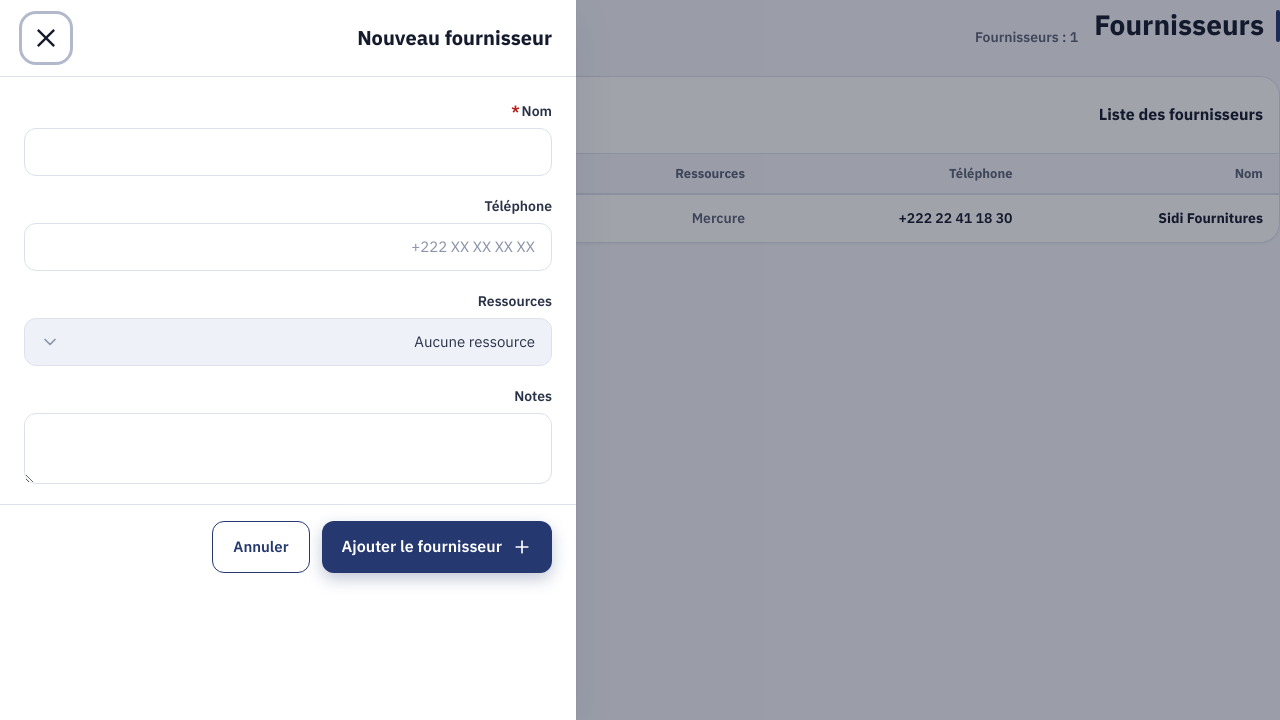
it: SuppliersScreen › shows the backend's refusal on the name
This screenshot has width=1280, height=720.
Type "Sidi Fournitures" into the field labelled "Nom" at (288, 152), box [24,128,552,176]
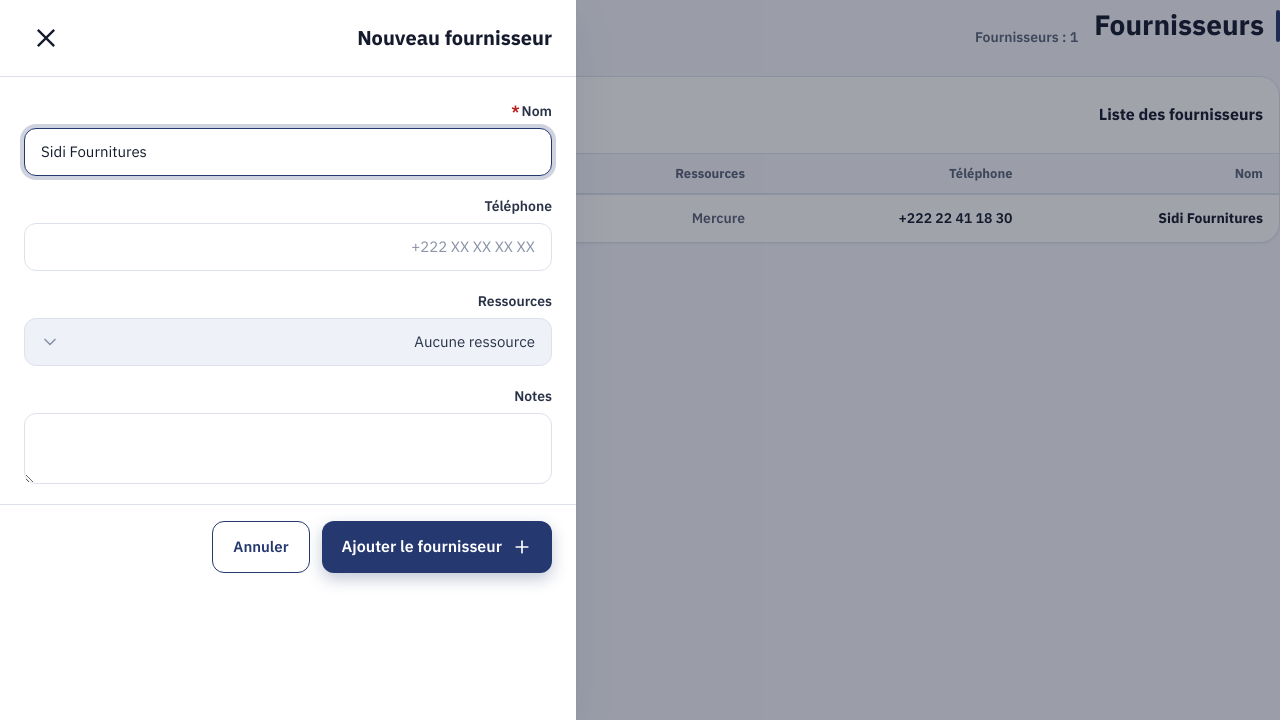
Click the button "Ajouter le fournisseur" at (437, 547), box [322,521,552,573]
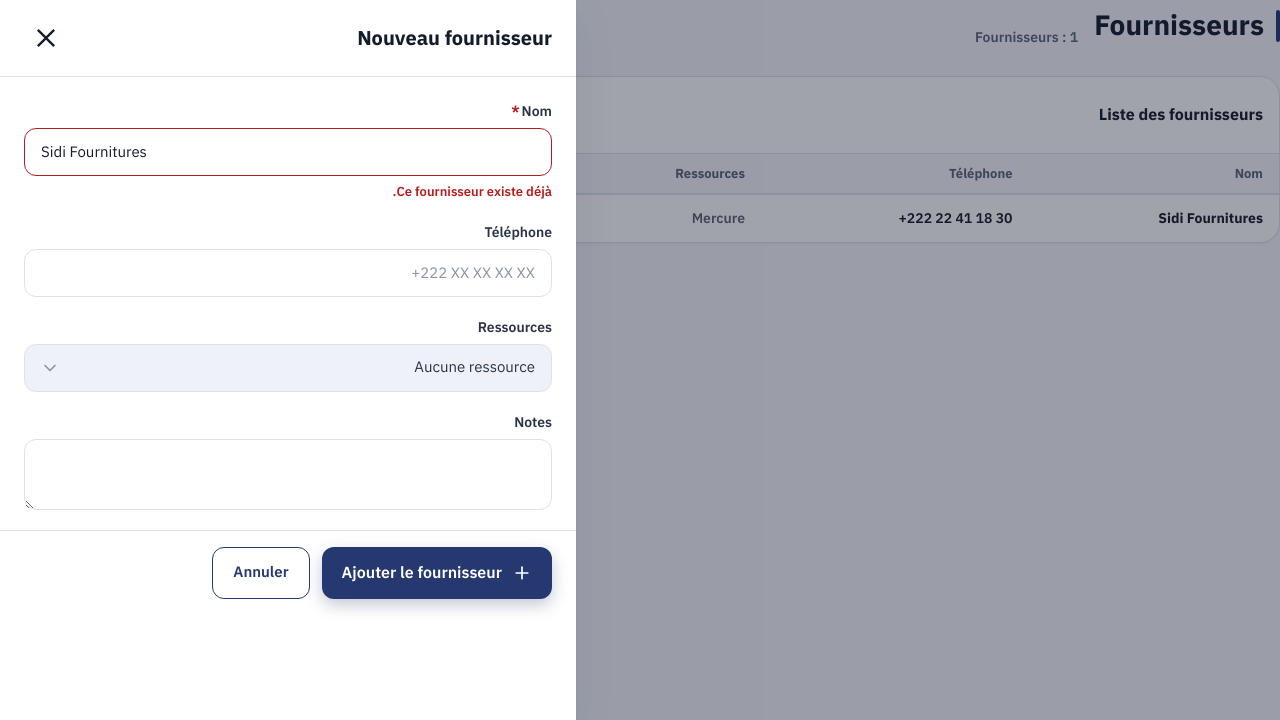
expect the text "Ce fournisseur existe déjà." is shown: met, box [392,182,552,201]
